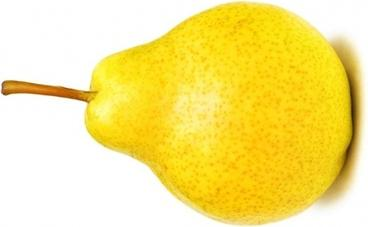pear: (0, 0, 368, 227)
